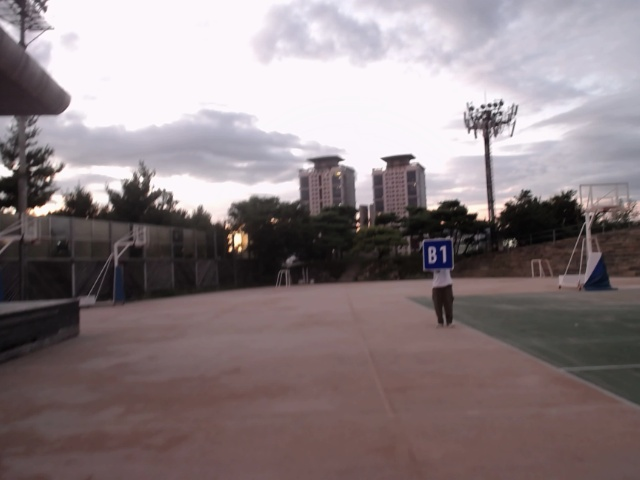delivery_b1: (423, 240, 453, 269)
